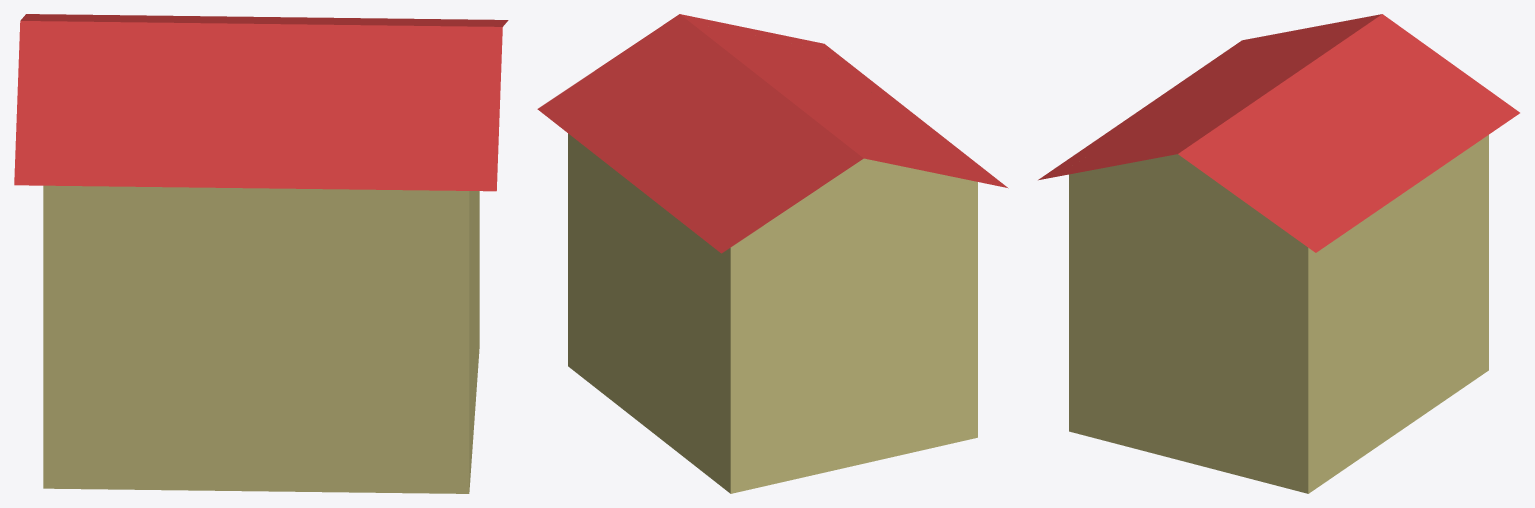
3 renders of one model, left to right at view 1: azimuth 30°, elevation 25°; view 2: azimuth 150°, elevation 25°; view 3: azimuth 270°, elevation 25°, orthographic. The views are drawn at different scales.
Bounding box in the file's own units: 16.53 × 15.87 × 11.49.
